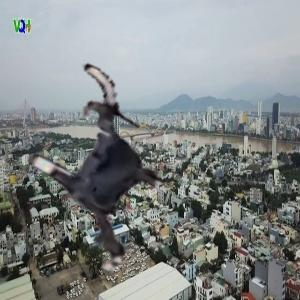drone: (2, 70, 205, 273)
